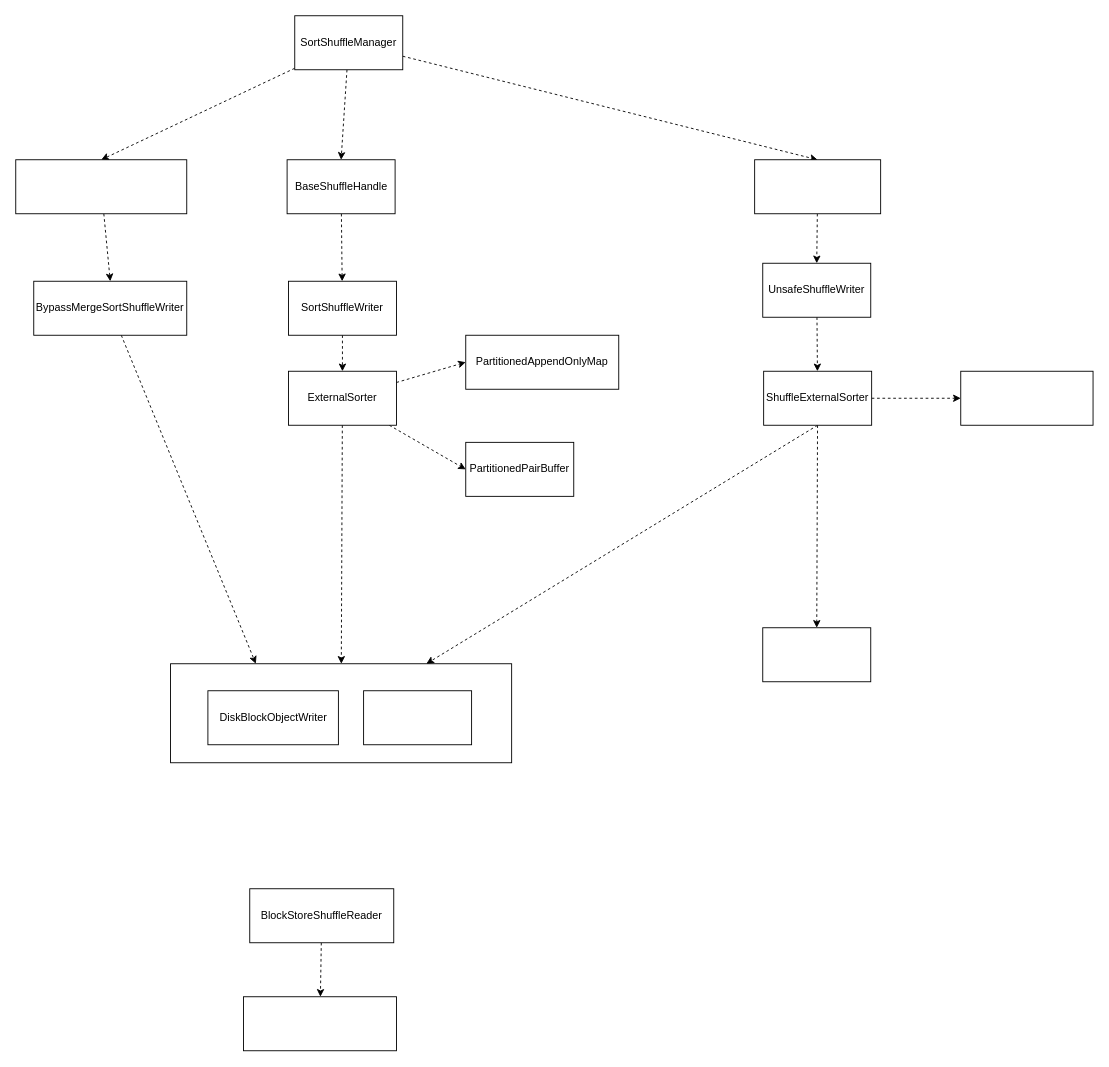
The diagram is 1109 pixels wide and 1067 high, and some of its shapes have lost their labels. The shapes that lost their labels are listed below. From the top down, each one's centre as x and y in pixels, then its label:
(101,186): BypassMergeSortShuffleHandle
(817,186): SerializedShuffleHandle
(1026,397): ShuffleInMemorySorter
(816,654): SpillInfo
(417,717): FileSegment
(319,1023): ShuffleBlockFetcherIterator
